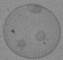small: (27, 4, 42, 12), (15, 39, 25, 48), (36, 31, 45, 40)
